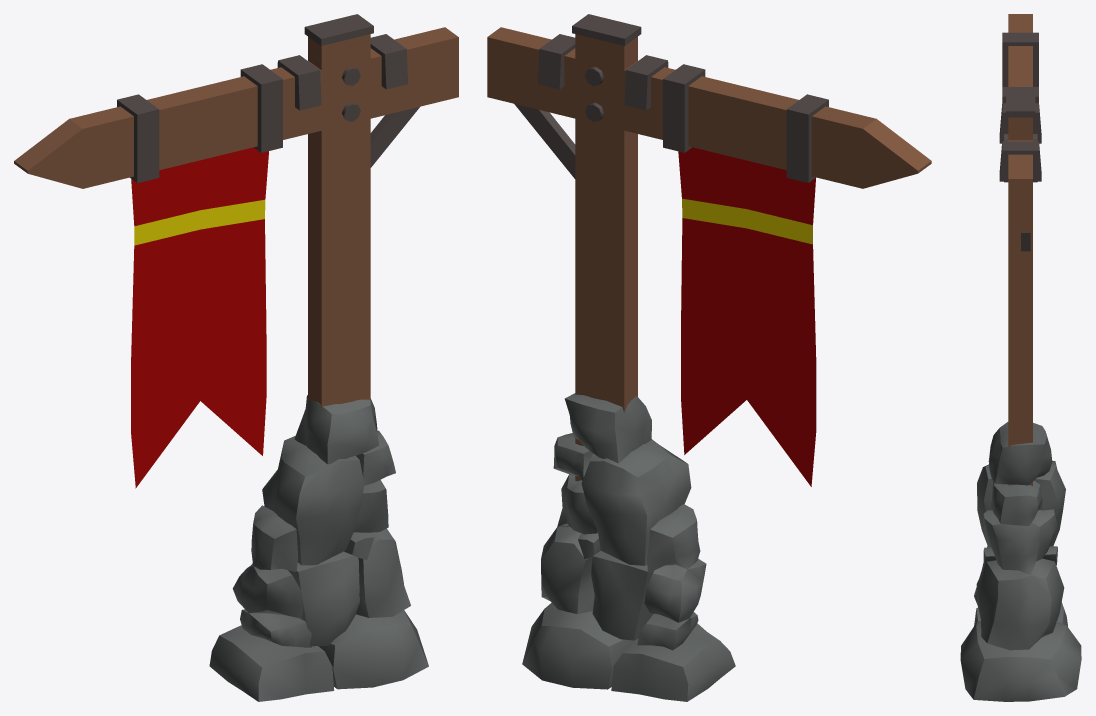
Rendered from fantasy_pointer.glb.
3 renders of one model, left to right at view 1: azimuth 30°, elevation 25°; view 2: azimuth 150°, elevation 25°; view 3: azimuth 270°, elevation 25°, orthographic. The views are drawn at different scales.
Visible parts, largest first — view 1: Box002; view 2: Box002; view 3: Box002.
Part boxes in pixels (left/top/right/bottom): Box002: left=14, top=14, right=458, bottom=701; Box002: left=487, top=14, right=931, bottom=701; Box002: left=960, top=14, right=1081, bottom=701.
Size of the model in its own units: 46.66 by 66.32 by 12.62.
Materials: 1 (1 with a texture image).
